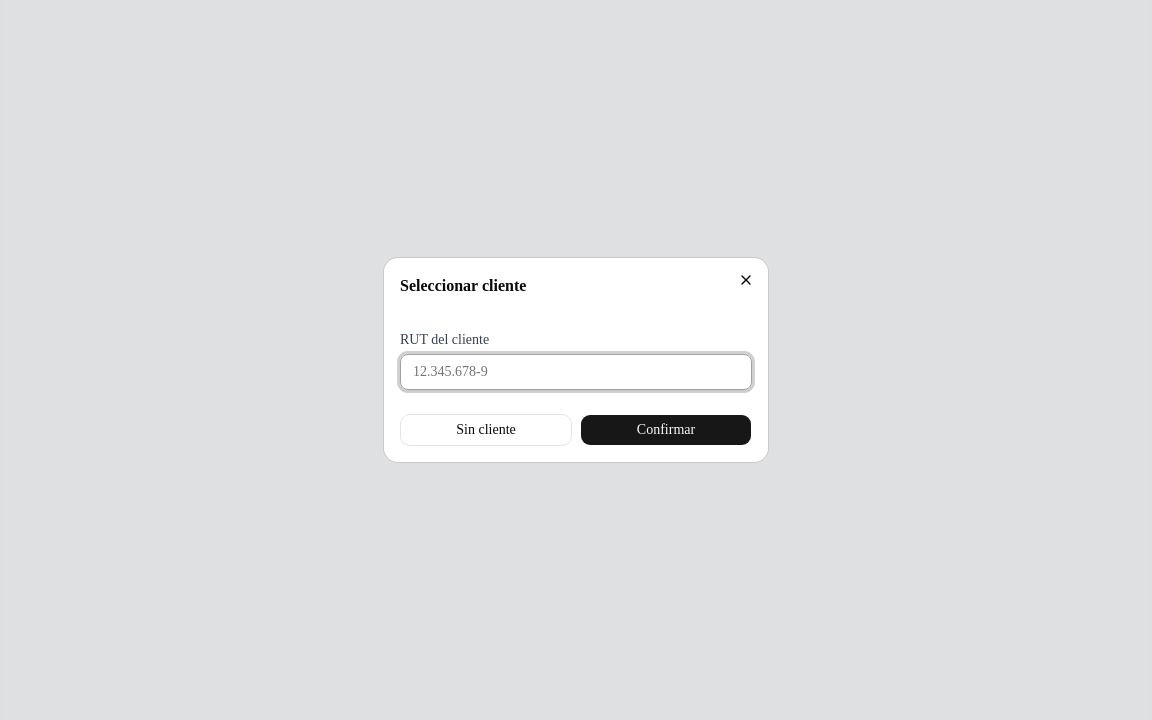
ModalCliente — auto-formato de RUT › MC-02: 4° dígito produce formato XXX-X
Type "1234" into the field with placeholder "12.345.678-9". click: x=576, y=372
box: top-left (400, 354), bottom-right (752, 390)
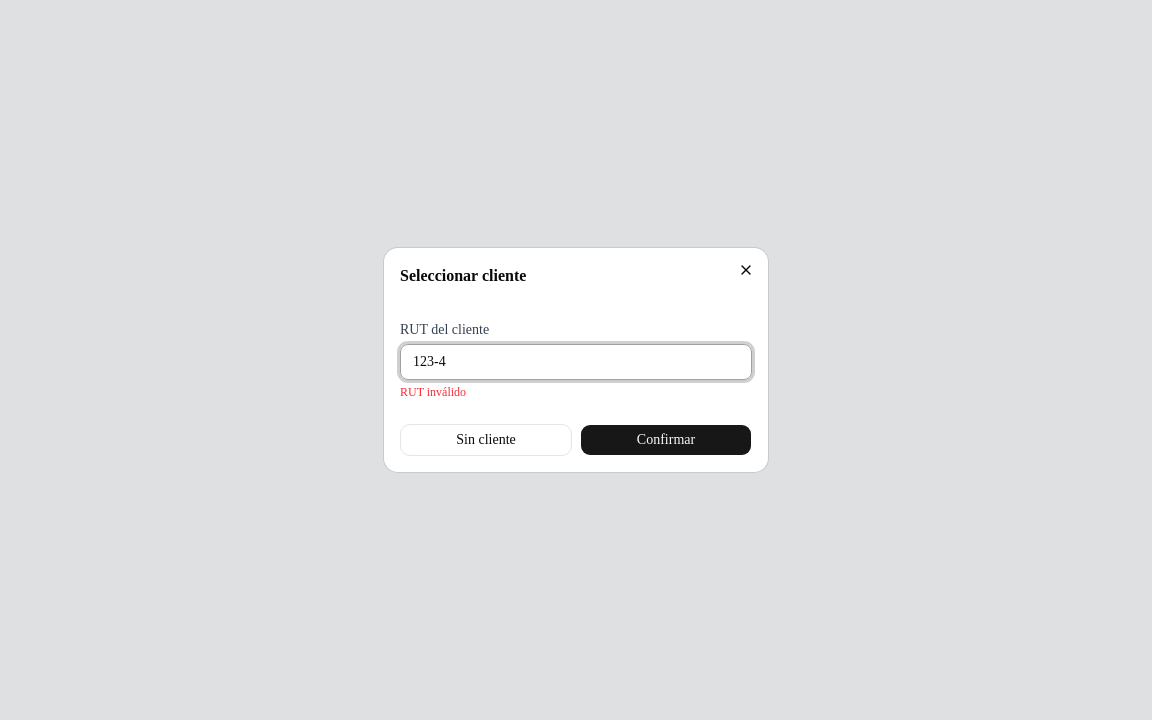
Now the field with placeholder "12.345.678-9" holds "123-4", box top-left (400, 344), bottom-right (752, 380)
